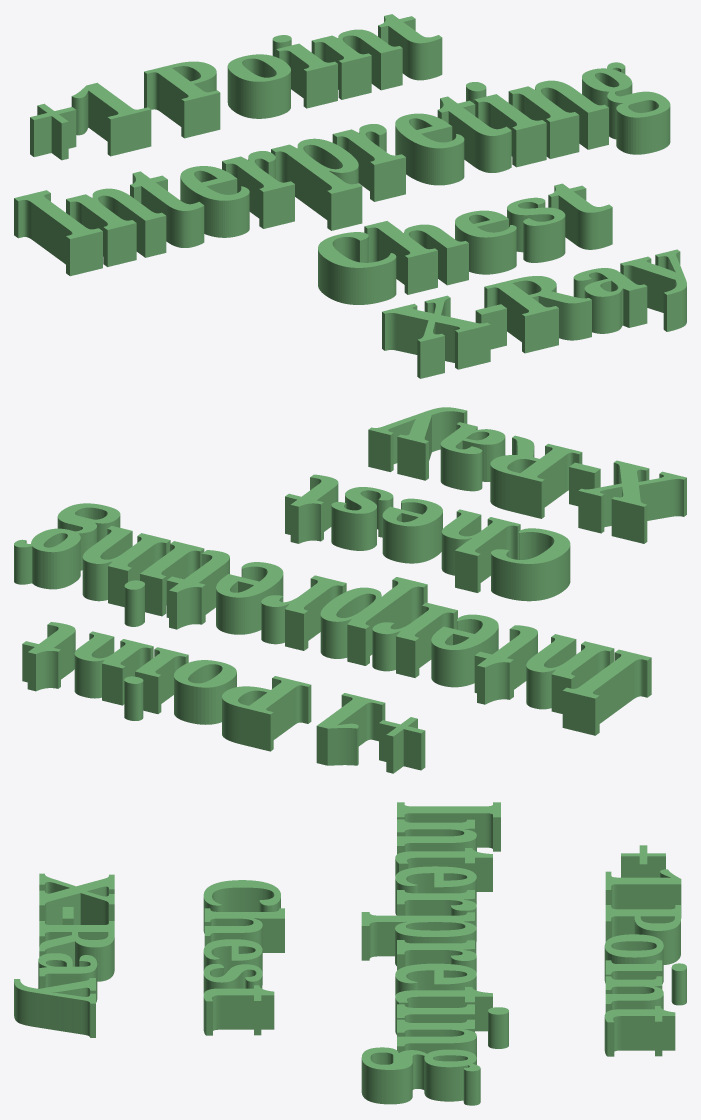
Rendered from poscxray.gltf.
The picture shows the model from 3 angles, top to bottom: view 1: azimuth 30°, elevation 25°; view 2: azimuth 150°, elevation 25°; view 3: azimuth 270°, elevation 25°; orthographic projection. The views are drawn at different scales.
Visible parts, largest first — view 1: Mesh_Mesh_head_geo001_lambert2SG001; view 2: Mesh_Mesh_head_geo001_lambert2SG001; view 3: Mesh_Mesh_head_geo001_lambert2SG001.
Boxes of the visible parts, <box> form: Mesh_Mesh_head_geo001_lambert2SG001: <box>14,14,686,378</box>; Mesh_Mesh_head_geo001_lambert2SG001: <box>14,407,686,773</box>; Mesh_Mesh_head_geo001_lambert2SG001: <box>14,802,686,1105</box>.
Size of the model in its own units: 168 by 10 by 177.
